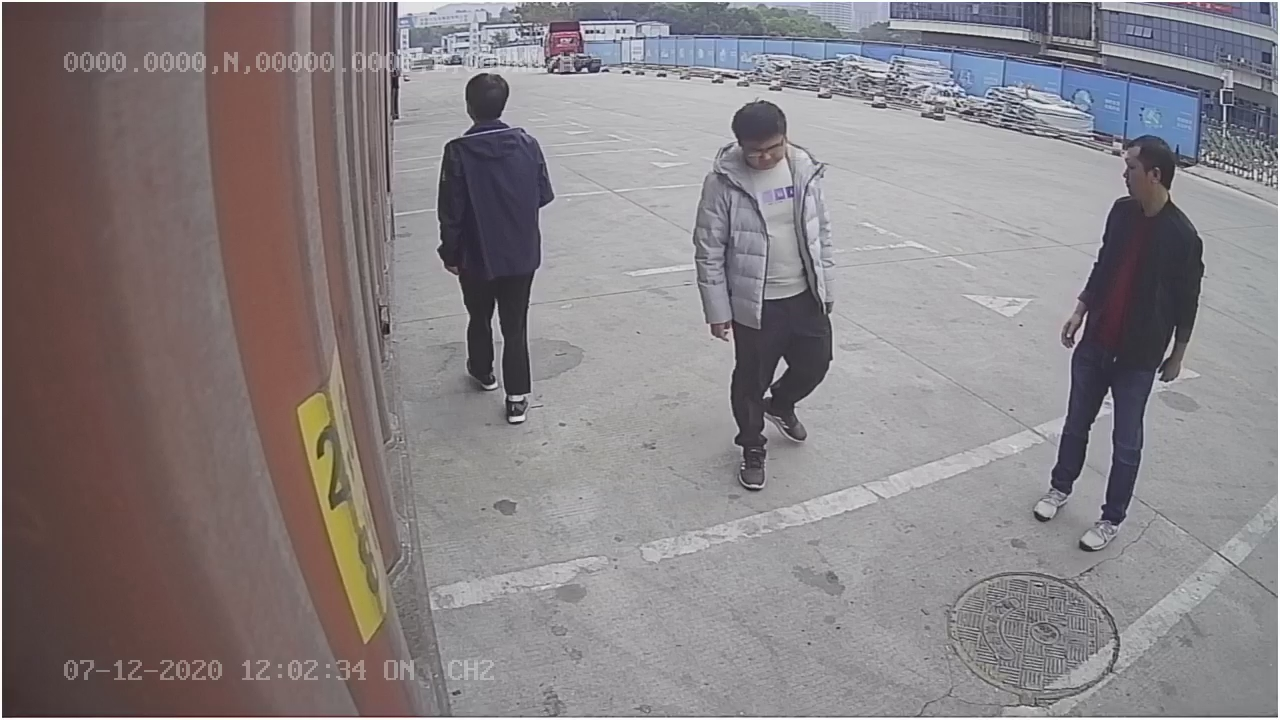person: (1032, 126, 1207, 554), (692, 93, 834, 493), (433, 69, 559, 427)
